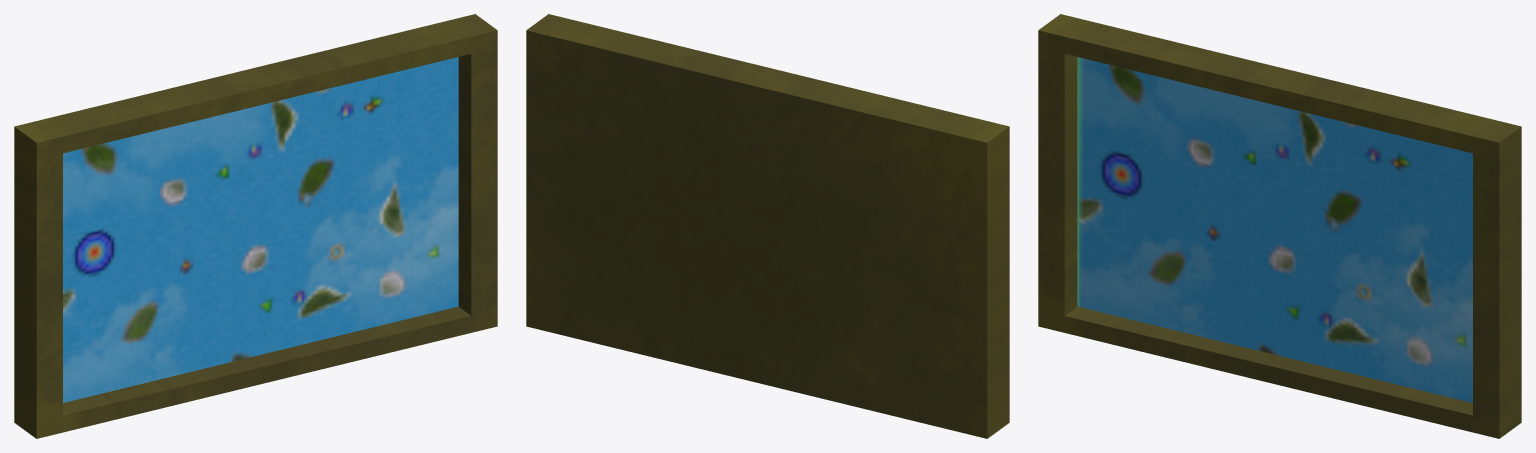
The model's file is avionair painting.fbx.
3 views of the same model, side by side, from view 1: azimuth 30°, elevation 25°; view 2: azimuth 150°, elevation 25°; view 3: azimuth 330°, elevation 25° (orthographic).
Parts seen in each view (by area): view 1: polySurface387; view 2: polySurface387; view 3: polySurface387.
Boxes of the visible parts, left/top/right/bottom form: polySurface387: left=14, top=14, right=497, bottom=438; polySurface387: left=526, top=14, right=1009, bottom=438; polySurface387: left=1038, top=14, right=1521, bottom=438.
Size of the model in its own units: 1.06 by 0.6479 by 0.0887.
Materials: 1 (1 with a texture image).
